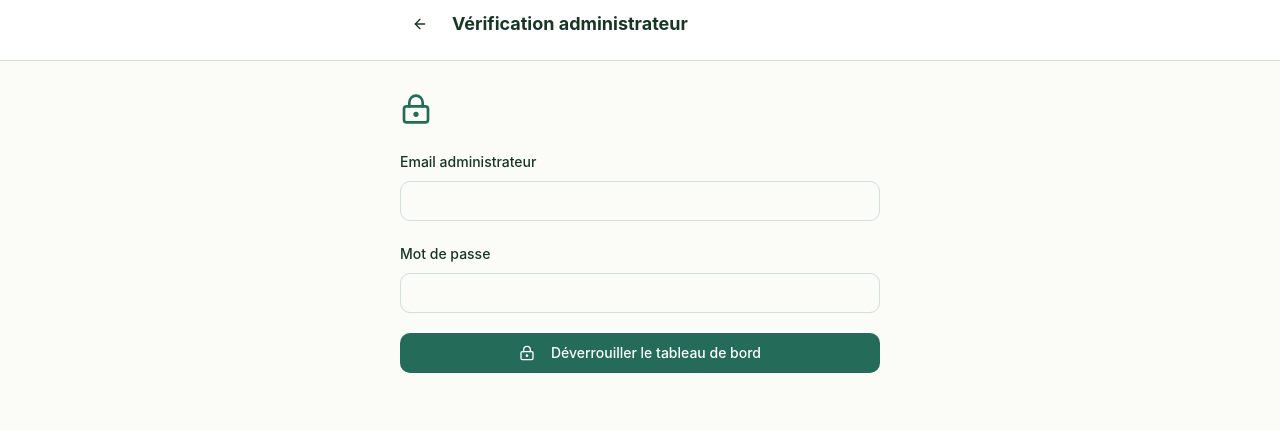
Test: Admin credential verification › does not authenticate a non-admin email even from the entry account
In the field labelled "Email administrateur": {"x": 640, "y": 201} [400,181,880,221], type "luxeeternel98@gmail.com"
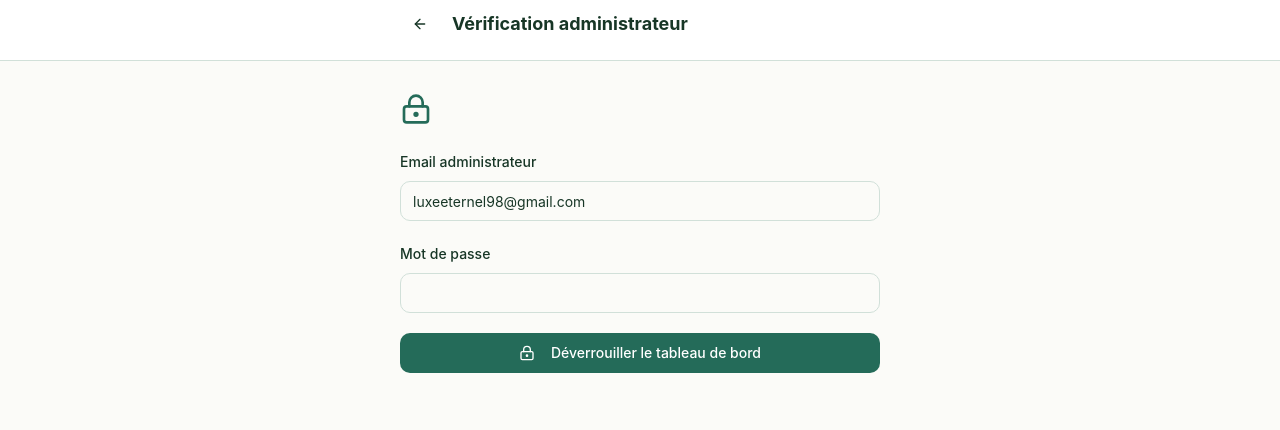
In the password field labelled "Mot de passe": {"x": 640, "y": 293} [400,273,880,313], type "test-only-password"
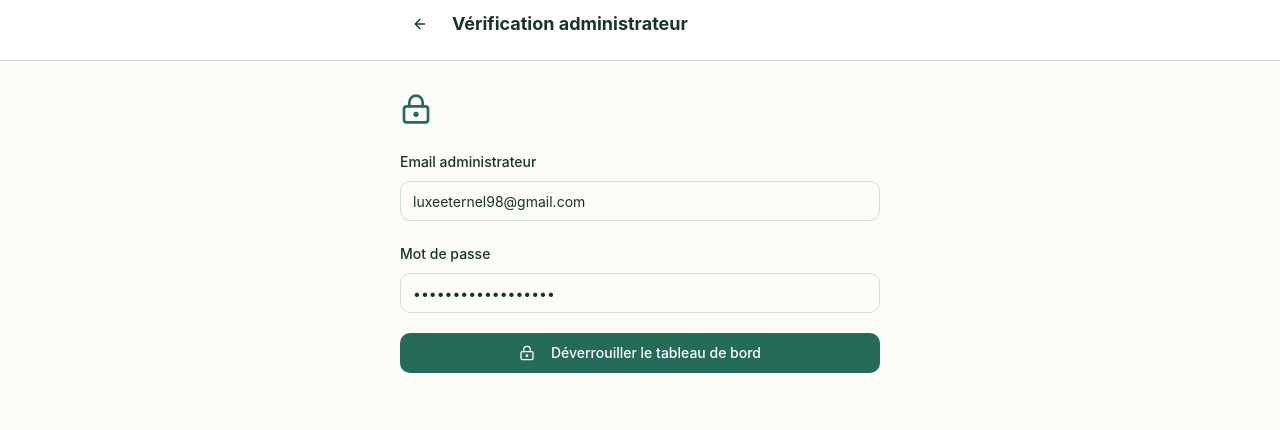
Click the button "Déverrouiller le tableau de bord": {"x": 640, "y": 353} [400,333,880,373]
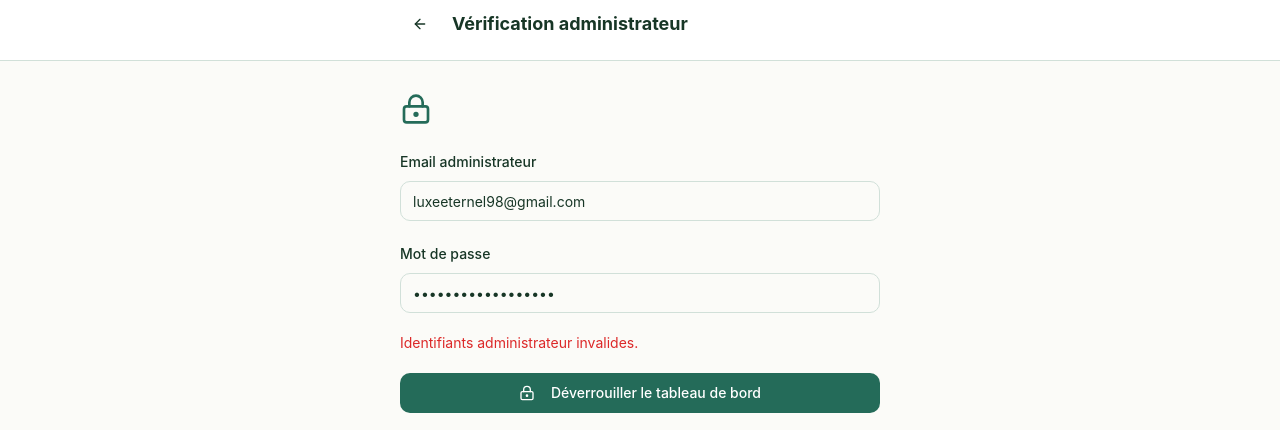
Expected: the message "Identifiants administrateur invalides." is shown, [400,334,638,351]
